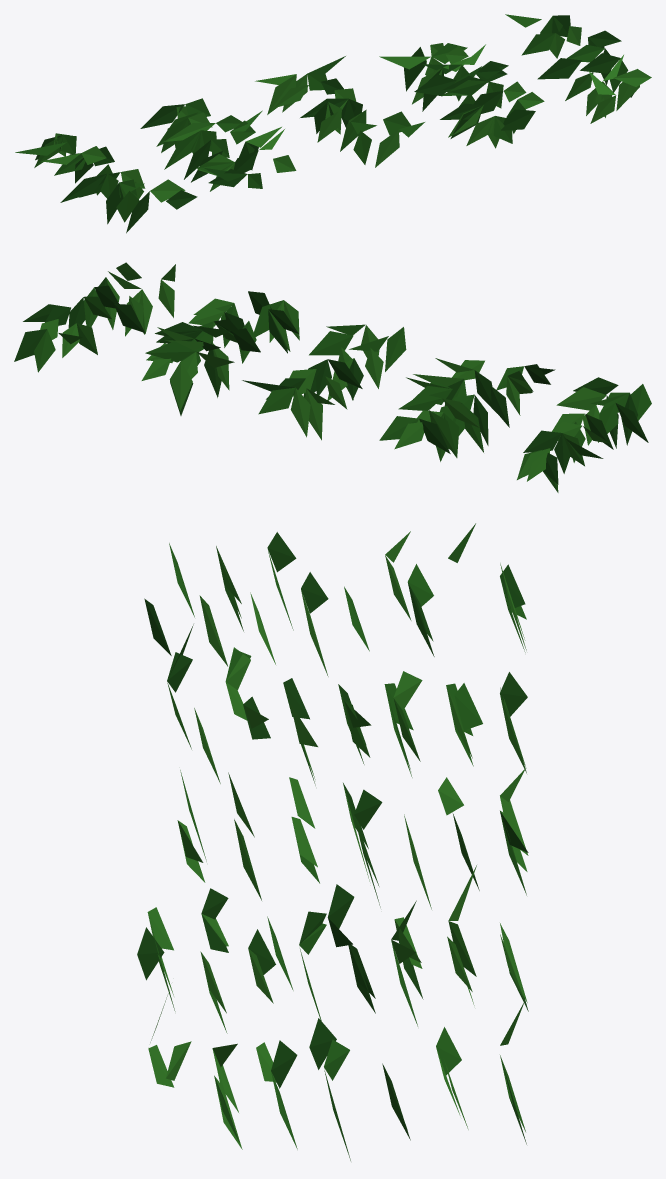
The picture shows the model from 3 angles, top to bottom: view 1: azimuth 30°, elevation 25°; view 2: azimuth 150°, elevation 25°; view 3: azimuth 270°, elevation 25°; orthographic projection. The views are drawn at different scales.
Parts seen in each view (by area): view 1: r8c0_l01; view 2: r8c0_l01; view 3: r8c0_l01.
Boxes of the visible parts, x1,y1,x2,y2 form: r8c0_l01: (15, 14, 651, 233); r8c0_l01: (14, 262, 651, 492); r8c0_l01: (137, 523, 528, 1160).
Bounding box in the file's own units: 2.24 × 0.2477 × 0.6434.
